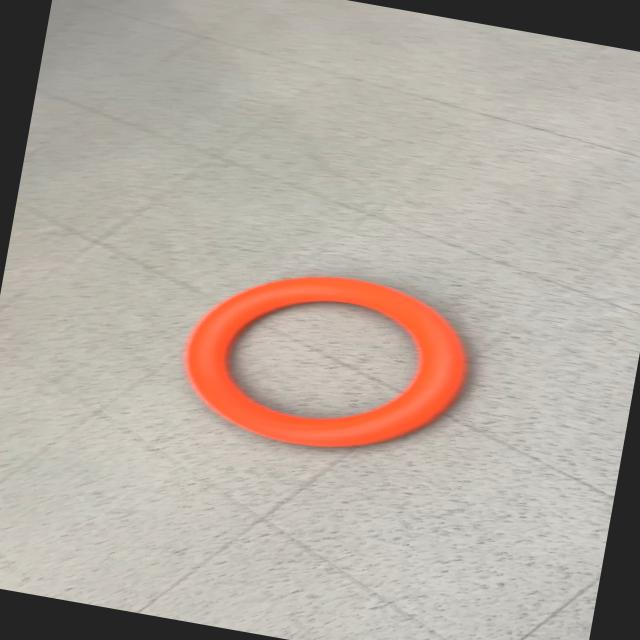note: (169, 250, 482, 472)
